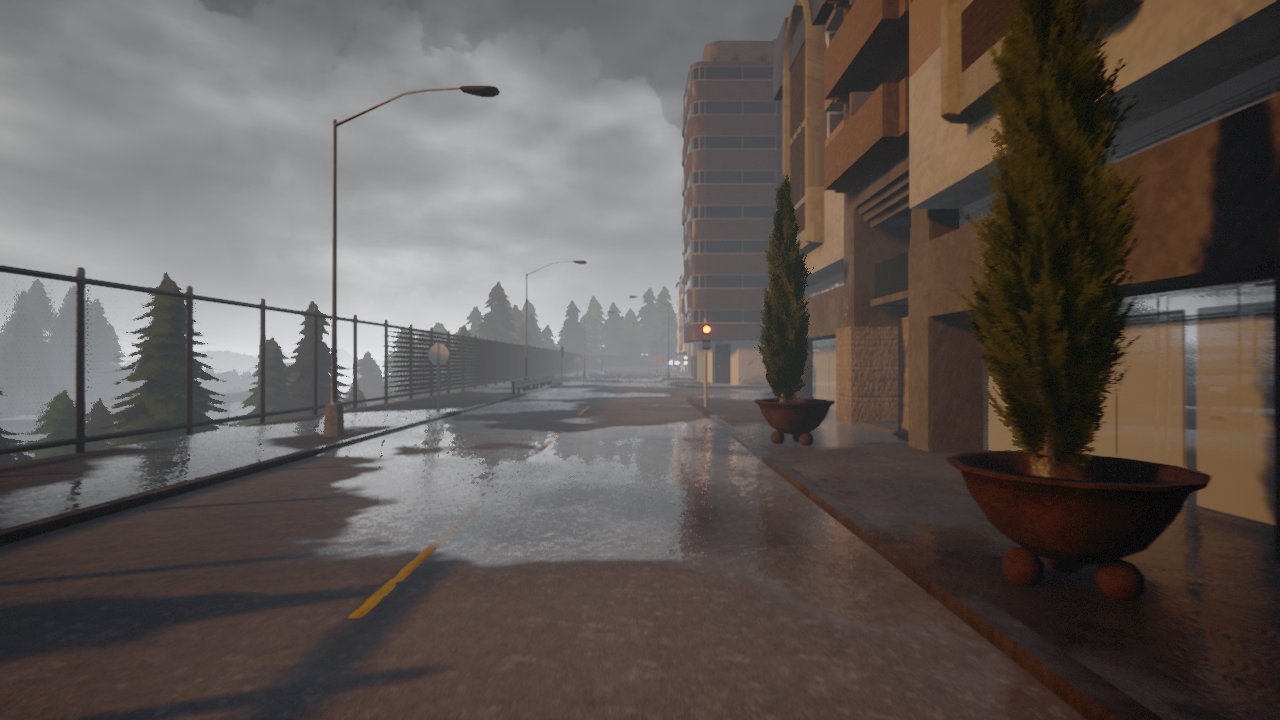red: (701, 323, 712, 350)
